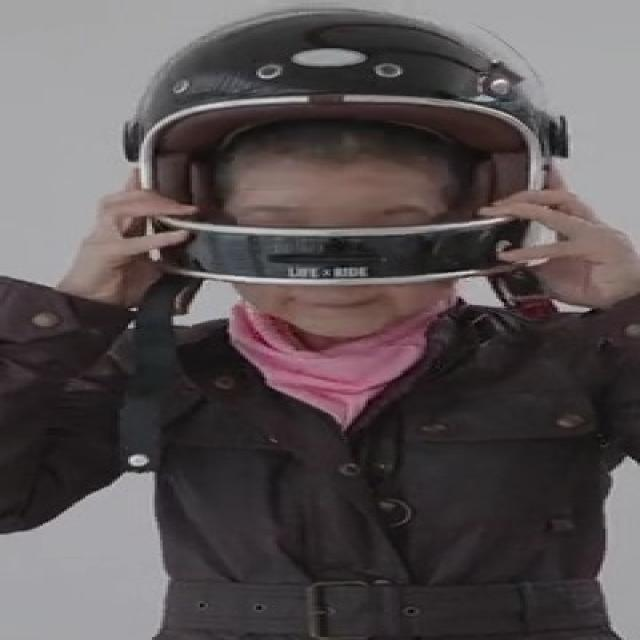Helmet_Wearer: (112, 6, 562, 349)
Person: (5, 7, 640, 640)
